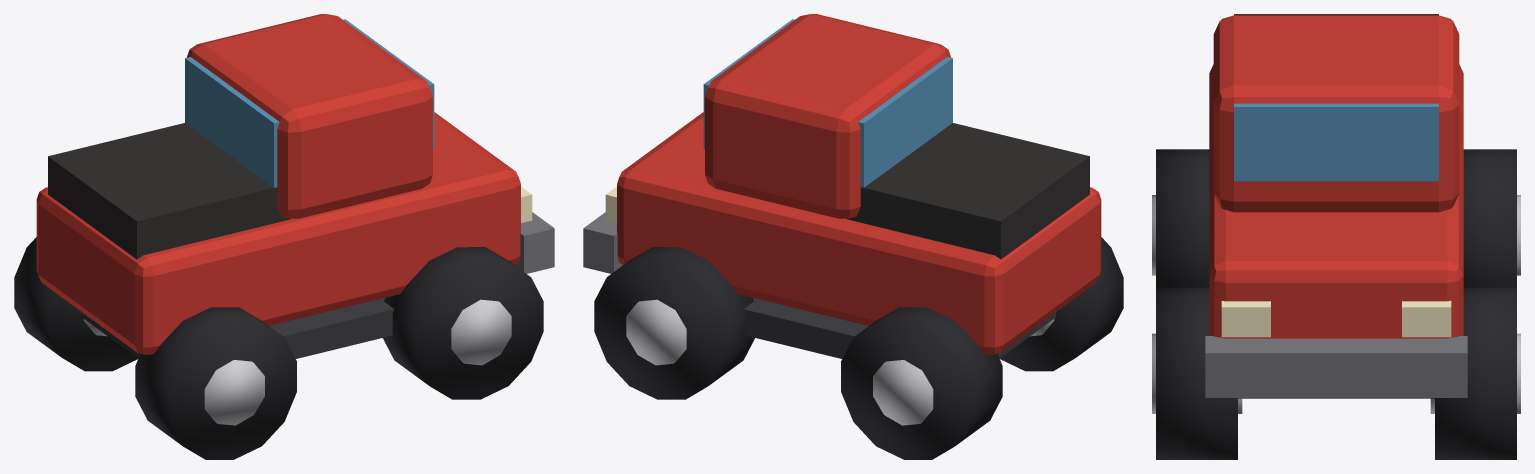
Rendered from pickup.glb.
3 views of the same model, side by side, from view 1: azimuth 30°, elevation 25°; view 2: azimuth 150°, elevation 25°; view 3: azimuth 270°, elevation 25° (orthographic). The views are drawn at different scales.
Parts seen in each view (by area): view 1: pickup; view 2: pickup; view 3: pickup.
Part boxes in pixels (x1,y1,x2,y2): pickup: [14, 14, 554, 459]; pickup: [583, 14, 1123, 459]; pickup: [1152, 14, 1520, 459].
Bounding box in the file's own units: 1.34 × 0.94 × 0.9.
